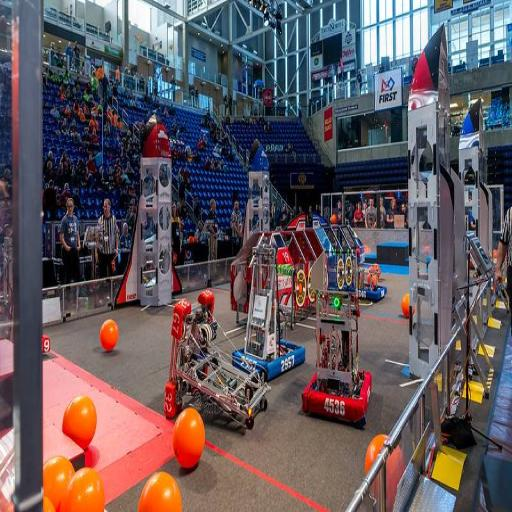robot: (162, 288, 272, 450), (300, 290, 374, 427), (239, 232, 305, 379), (347, 262, 387, 302)
